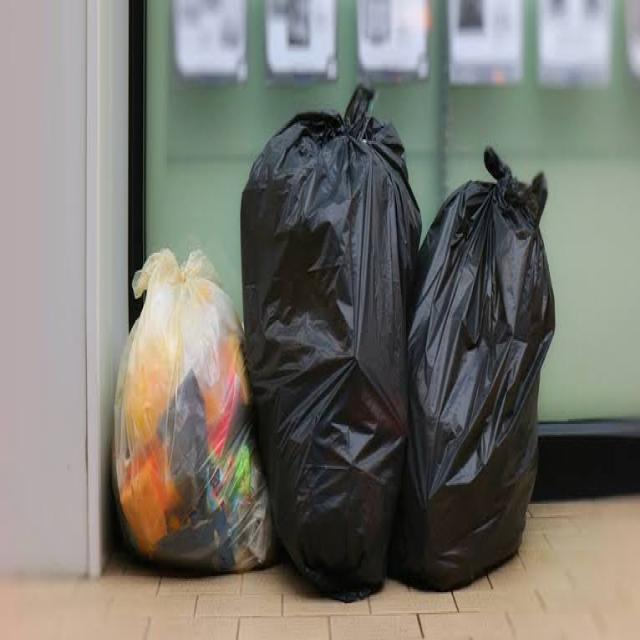plastic bag: (110, 243, 255, 588)
